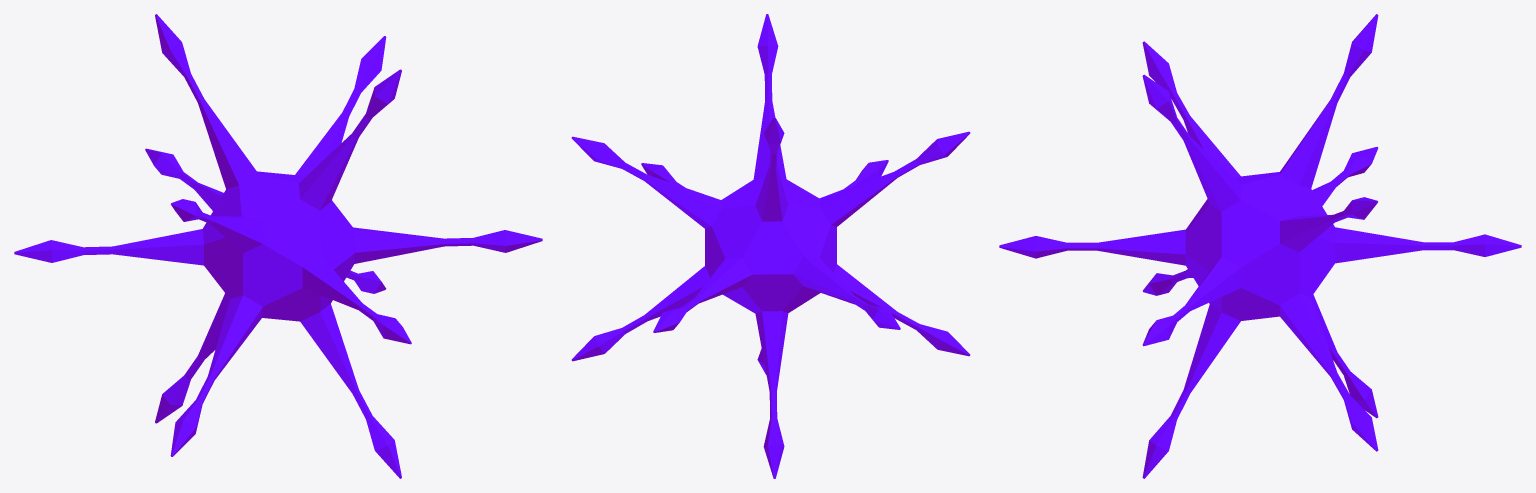
Rendered from teleportal.fbx.
The picture shows the model from 3 angles, left to right: view 1: azimuth 30°, elevation 25°; view 2: azimuth 150°, elevation 25°; view 3: azimuth 270°, elevation 25°; orthographic projection. The views are drawn at different scales.
Visible parts, largest first — view 1: pPlatonic1; view 2: pPlatonic1; view 3: pPlatonic1.
Boxes of the visible parts, x1,y1,x2,y2 form: pPlatonic1: (14, 14, 542, 478); pPlatonic1: (571, 14, 970, 478); pPlatonic1: (999, 14, 1521, 478).
Bounding box in the file's own units: 114 × 108 × 127.
